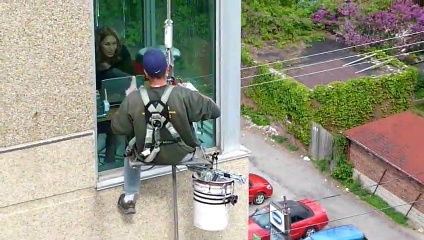person: (107, 44, 223, 182)
